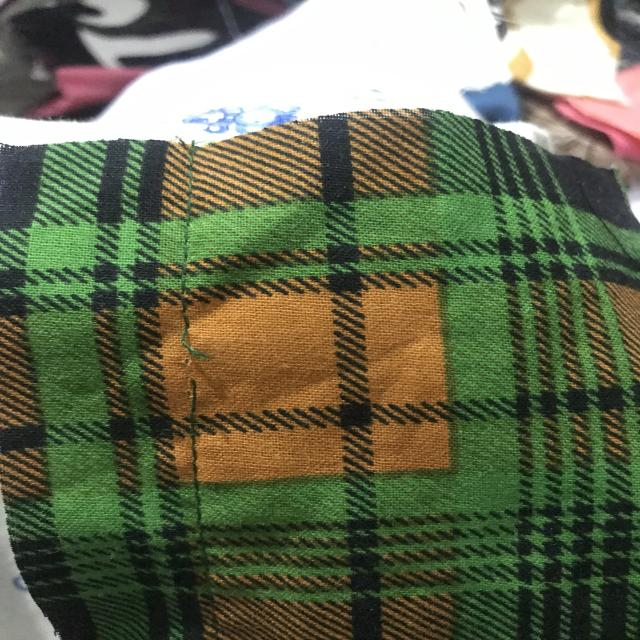broken: (164, 310, 233, 408)
good: (184, 443, 219, 524)
